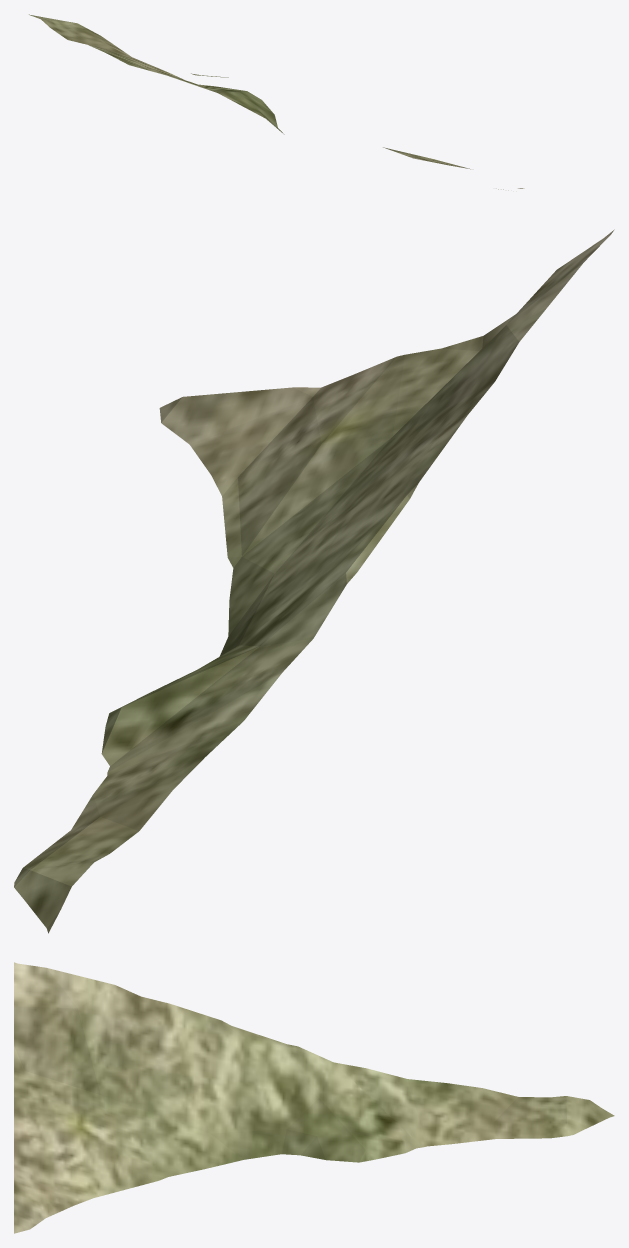
The picture shows the model from 3 angles, top to bottom: view 1: azimuth 30°, elevation 25°; view 2: azimuth 150°, elevation 25°; view 3: azimuth 270°, elevation 25°; orthographic projection. The views are drawn at different scales.
Bounding box in the file's own units: 0.993 × 0.6042 × 2.14.
1 material, 1 textured.
